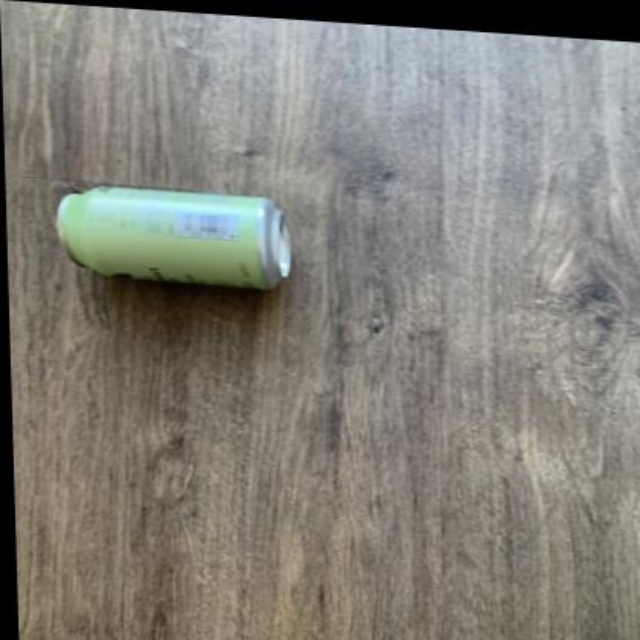trash: (57, 186, 291, 288)
